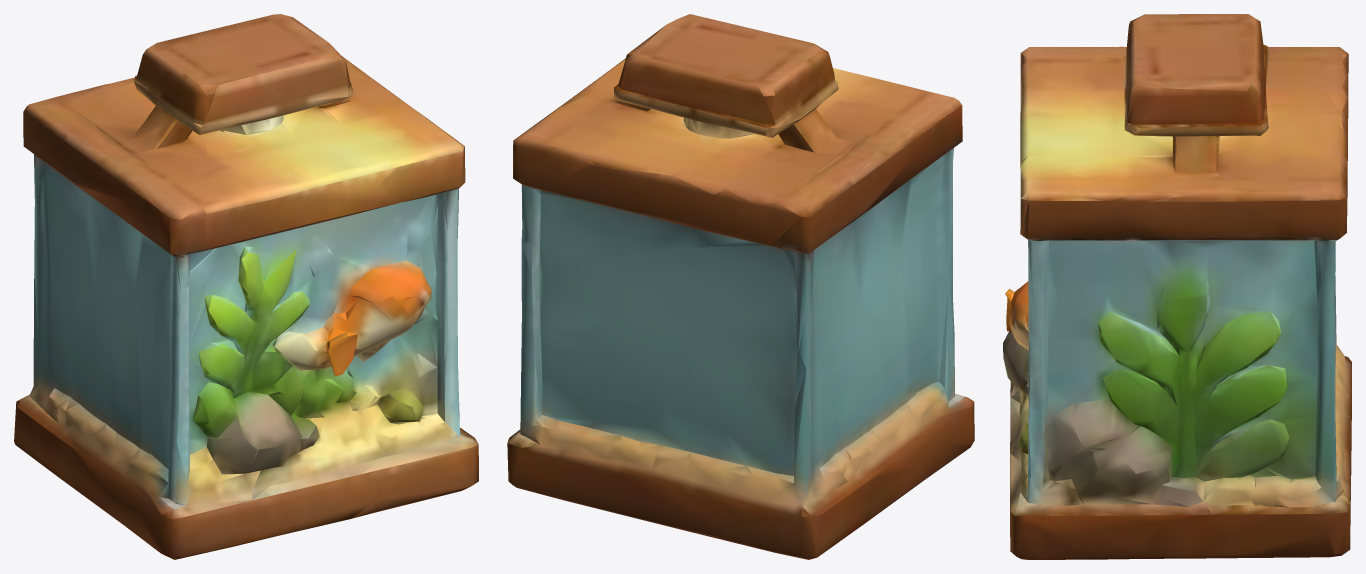
Rendered from deco45.glb.
3 views of the same model, side by side, from view 1: azimuth 30°, elevation 25°; view 2: azimuth 150°, elevation 25°; view 3: azimuth 270°, elevation 25° (orthographic). The views are drawn at different scales.
Size of the model in its own units: 0.1729 by 0.216 by 0.1565.
Materials: 1 (1 with a texture image).
